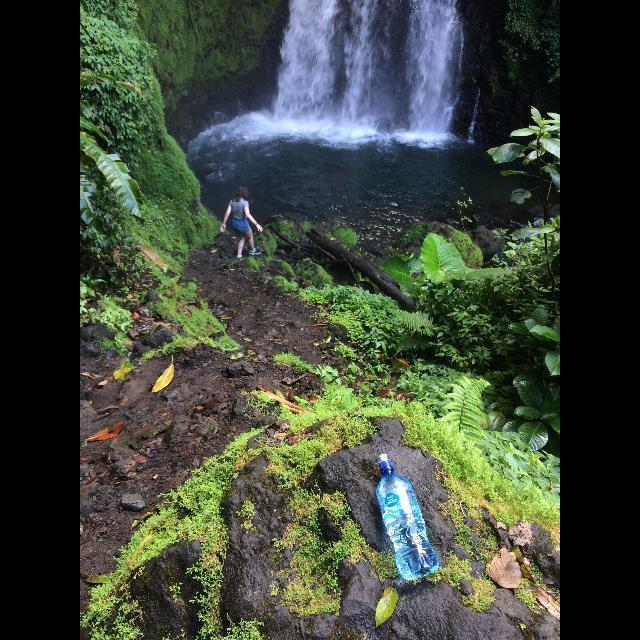Plastic: (376, 454, 439, 580), (378, 454, 394, 472)
